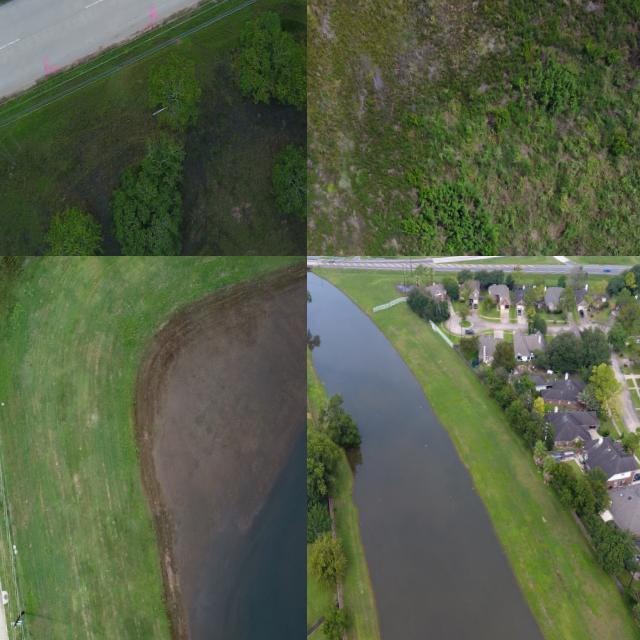fire: (307, 272, 546, 640), (192, 423, 307, 640)
